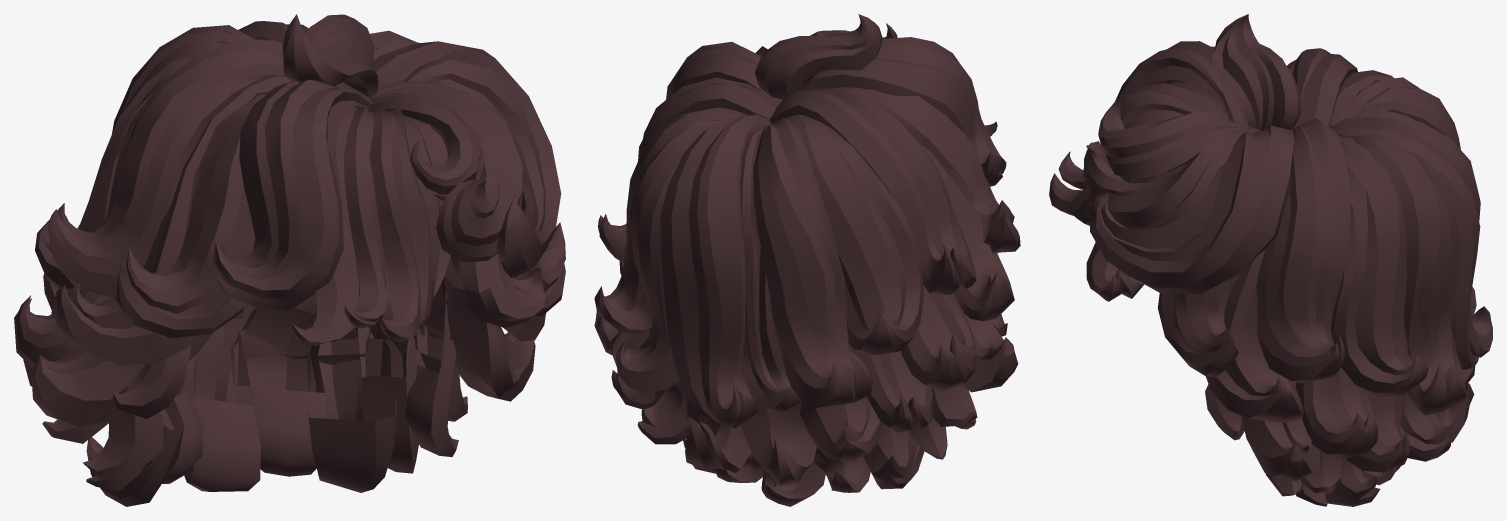
The model's file is Hair.fbx.
The picture shows the model from 3 angles, left to right: view 1: azimuth 30°, elevation 25°; view 2: azimuth 150°, elevation 25°; view 3: azimuth 270°, elevation 25°; orthographic projection. The views are drawn at different scales.
Parts seen in each view (by area): view 1: cheongsamhair2; view 2: cheongsamhair2; view 3: cheongsamhair2.
Boxes of the visible parts, bbox=[...] form: cheongsamhair2: bbox=[14, 14, 565, 506]; cheongsamhair2: bbox=[594, 14, 1020, 506]; cheongsamhair2: bbox=[1049, 14, 1492, 506].
Size of the model in its own units: 32.01 by 33.51 by 30.25.
